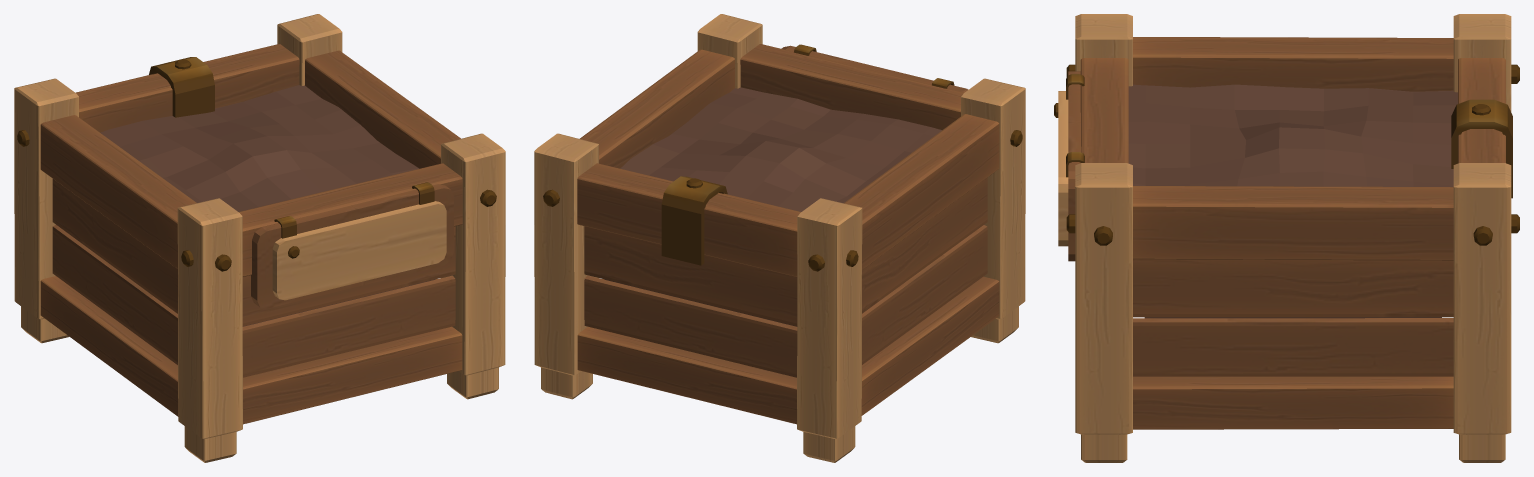
File: planterBox.glb
The picture shows the model from 3 angles, left to right: view 1: azimuth 30°, elevation 25°; view 2: azimuth 150°, elevation 25°; view 3: azimuth 270°, elevation 25°; orthographic projection. The views are drawn at different scales.
Parts seen in each view (by area): view 1: Fence.001, Fence.005, Fence.012, Plane.002, Cube.012, Cube.011, Cube.016, Cube.013; view 2: Fence.005, Fence.001, Fence.012, Plane.002, Cube.016, Cube.011; view 3: Fence.012, Fence.001, Plane.002, Fence.005, Cube.016, Cube.011, Cube.012, Cylinder.002, Cylinder.001, Cube.010, Cube.013.
Boxes of the visible parts, x1,y1,x2,y2 form: Fence.001: (14, 14, 505, 462); Fence.005: (76, 44, 462, 424); Fence.012: (40, 50, 460, 416); Plane.002: (100, 85, 418, 211); Cube.012: (272, 201, 446, 300); Cube.011: (251, 184, 453, 308); Cube.016: (149, 57, 214, 117); Cube.013: (274, 182, 434, 238); Fence.005: (577, 44, 963, 424); Fence.001: (534, 14, 1025, 462); Fence.012: (579, 49, 999, 415); Plane.002: (620, 87, 941, 211); Cube.016: (661, 176, 727, 265); Cube.011: (781, 45, 968, 92); Fence.012: (1133, 37, 1453, 429); Fence.001: (1075, 14, 1511, 462); Plane.002: (1128, 84, 1457, 186); Fence.005: (1080, 58, 1505, 163); Cube.016: (1451, 99, 1512, 198); Cube.011: (1068, 71, 1081, 261); Cube.012: (1058, 91, 1068, 246); Cylinder.002: (1094, 226, 1492, 245); Cylinder.001: (1066, 64, 1519, 233); Cube.010: (1144, 317, 1441, 318); Cube.013: (1066, 74, 1084, 177).
Bounding box in the file's own units: 1.79 × 1.32 × 1.97.
Materials: 4 (3 with a texture image).
